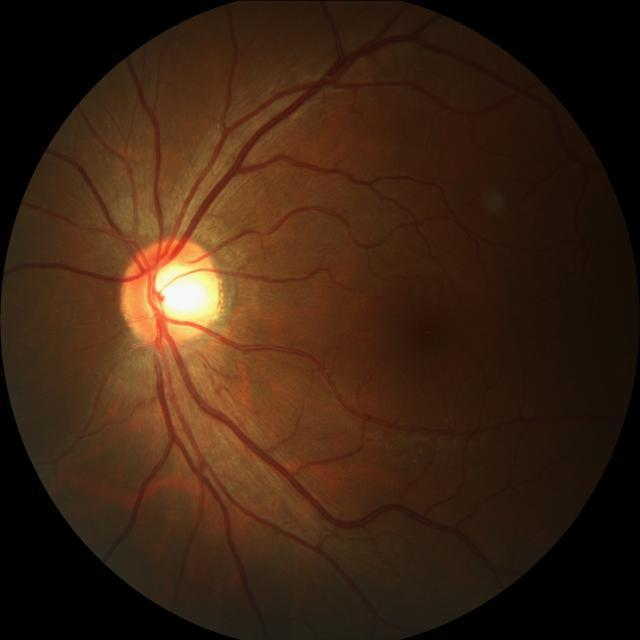OC: (147, 258, 215, 324)
OD: (118, 235, 222, 349)
